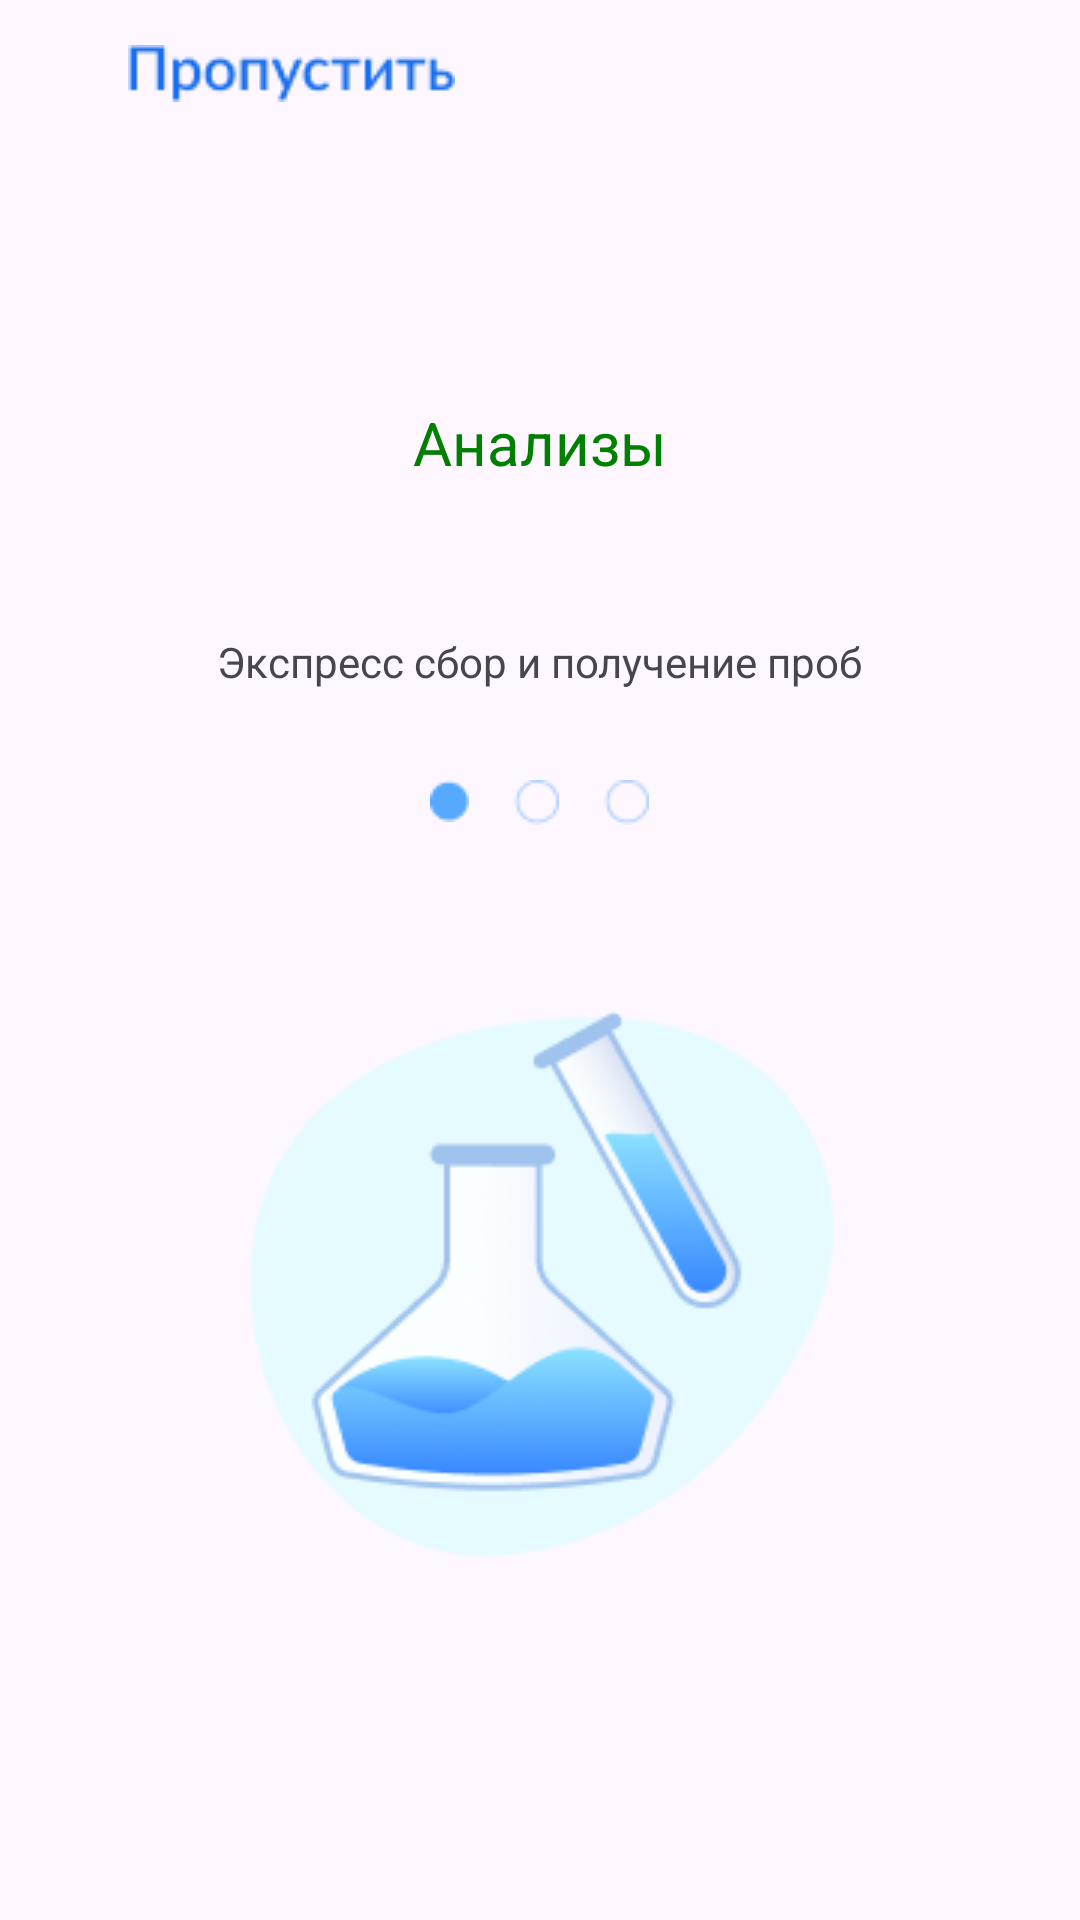

Screen size 1080 x 1920. Icon name, then its box in pixels as (x1, y1, x2, y2):
ellipsempty: (516, 780, 559, 823), (606, 780, 649, 823)
ellipsfull: (430, 782, 469, 822)
